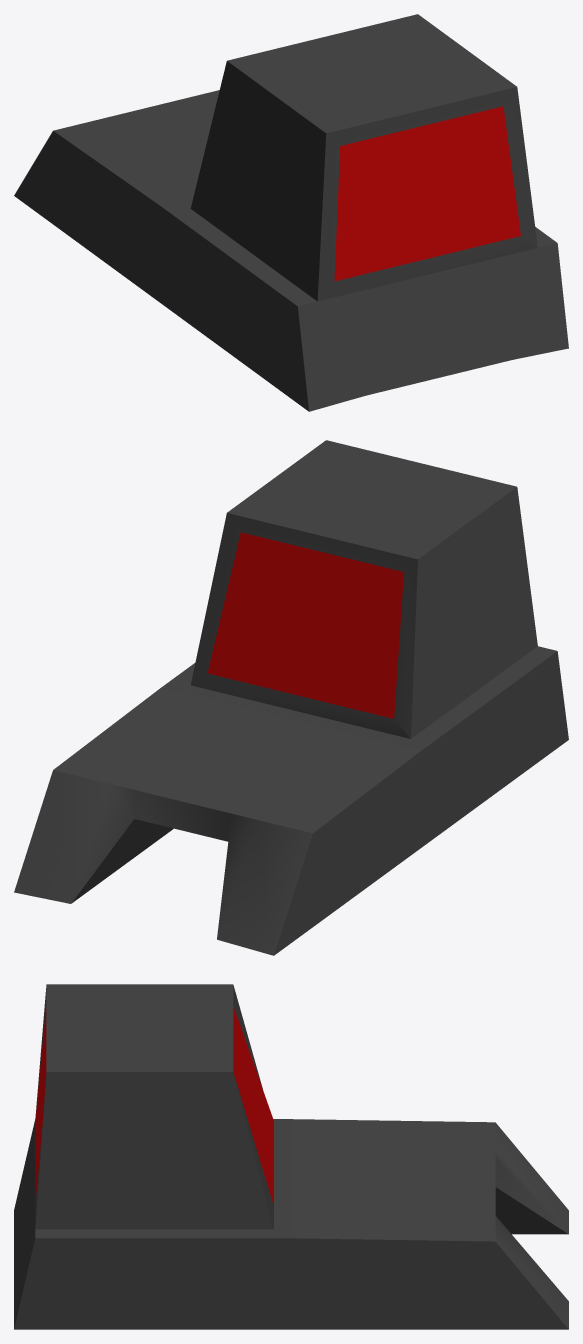
Rendered from holo.obj.
3 views of the same model, one above another, from view 1: azimuth 30°, elevation 25°; view 2: azimuth 150°, elevation 25°; view 3: azimuth 270°, elevation 25° (orthographic). The views are drawn at different scales.
Visible parts, largest first — view 1: Cube_Cube.002; view 2: Cube_Cube.002; view 3: Cube_Cube.002.
Part boxes in pixels (left/top/right/bottom): Cube_Cube.002: left=14, top=14, right=568, bottom=411; Cube_Cube.002: left=14, top=440, right=568, bottom=955; Cube_Cube.002: left=14, top=984, right=568, bottom=1329.
Bounding box in the file's own units: 0.067 × 0.0635 × 0.1319.
